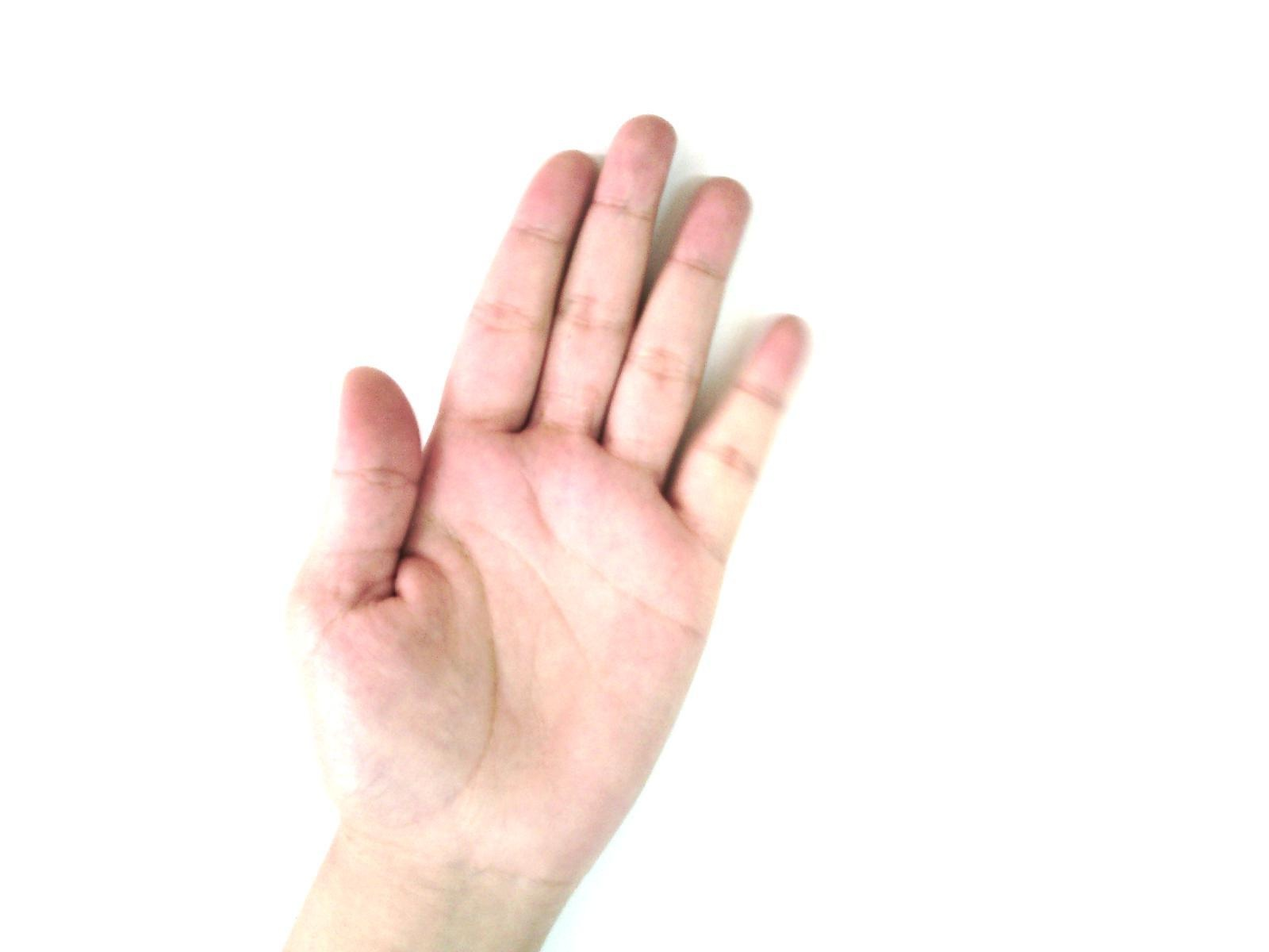open_palm: (280, 113, 815, 893)
